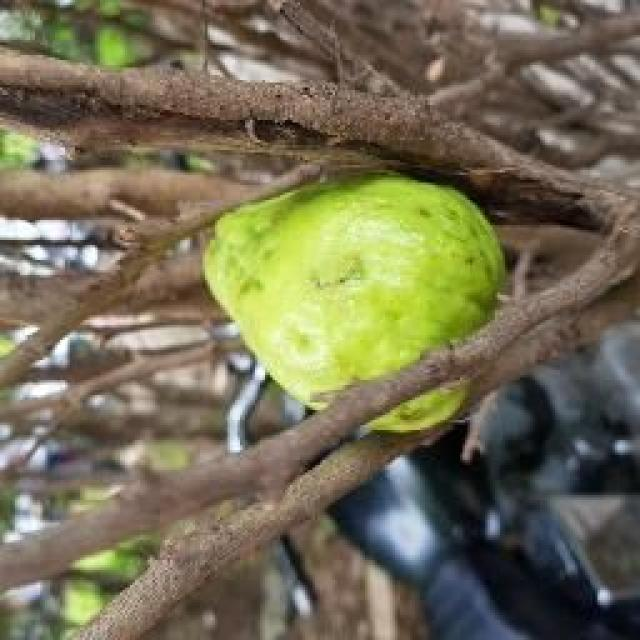Good_Guava: (200, 172, 508, 410)
